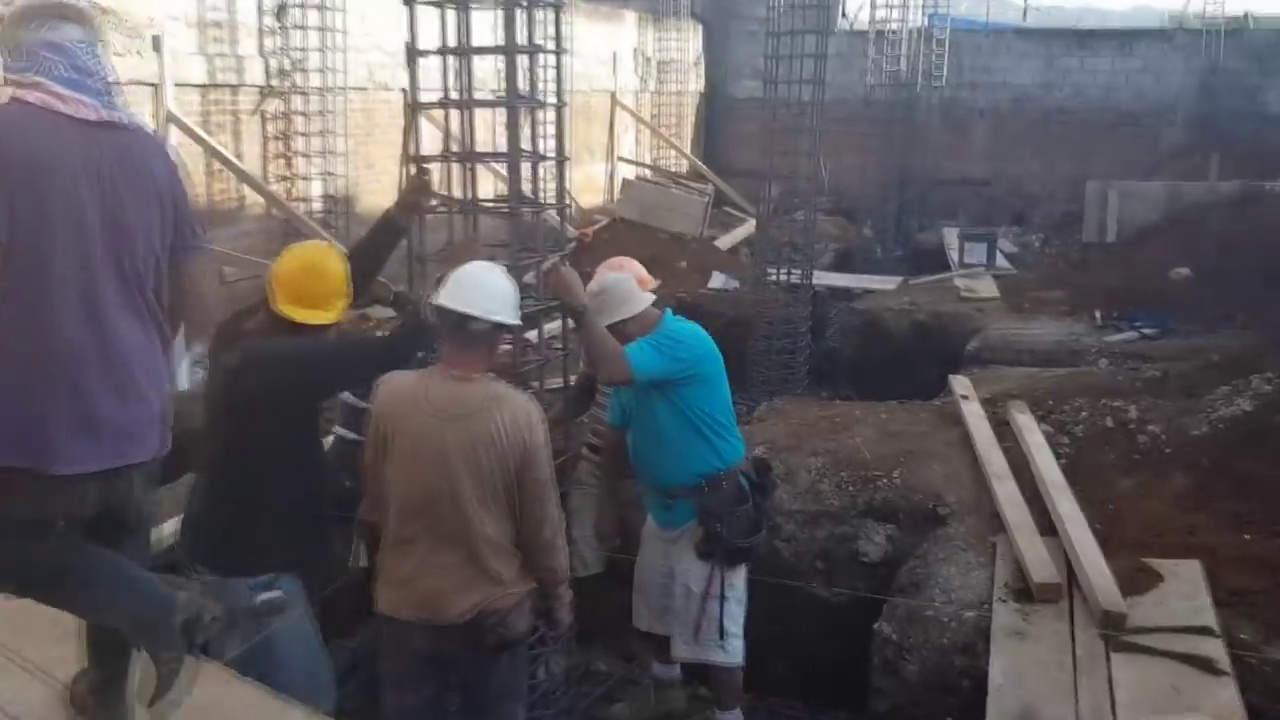helmet: (270, 237, 353, 326), (432, 260, 530, 335)
helmet-off: (0, 0, 126, 113), (586, 261, 661, 356)
helmet-on: (426, 248, 529, 393), (240, 235, 353, 339)
person: (7, 0, 242, 706), (342, 259, 582, 720), (177, 224, 355, 699), (574, 240, 750, 717)
